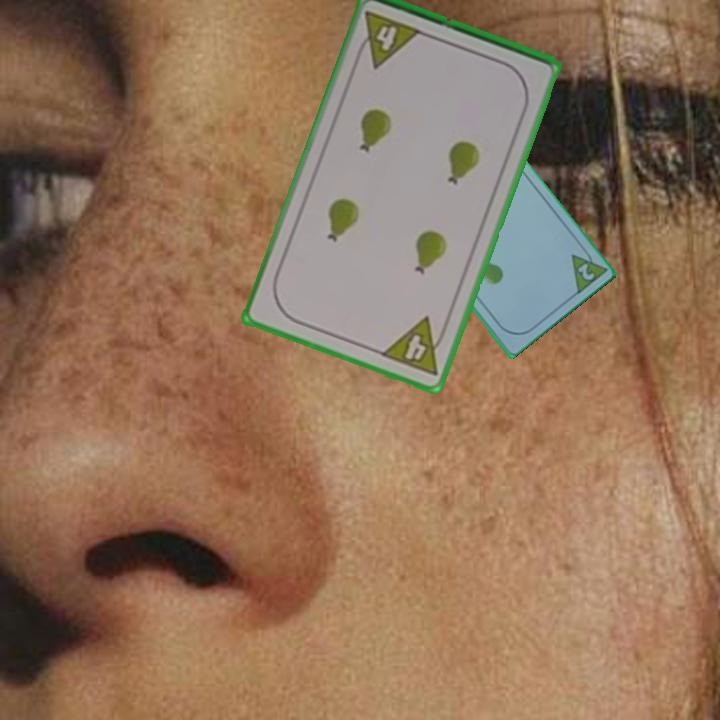2p: (567, 241, 608, 298)
4p: (377, 313, 452, 380), (352, 8, 425, 71)
